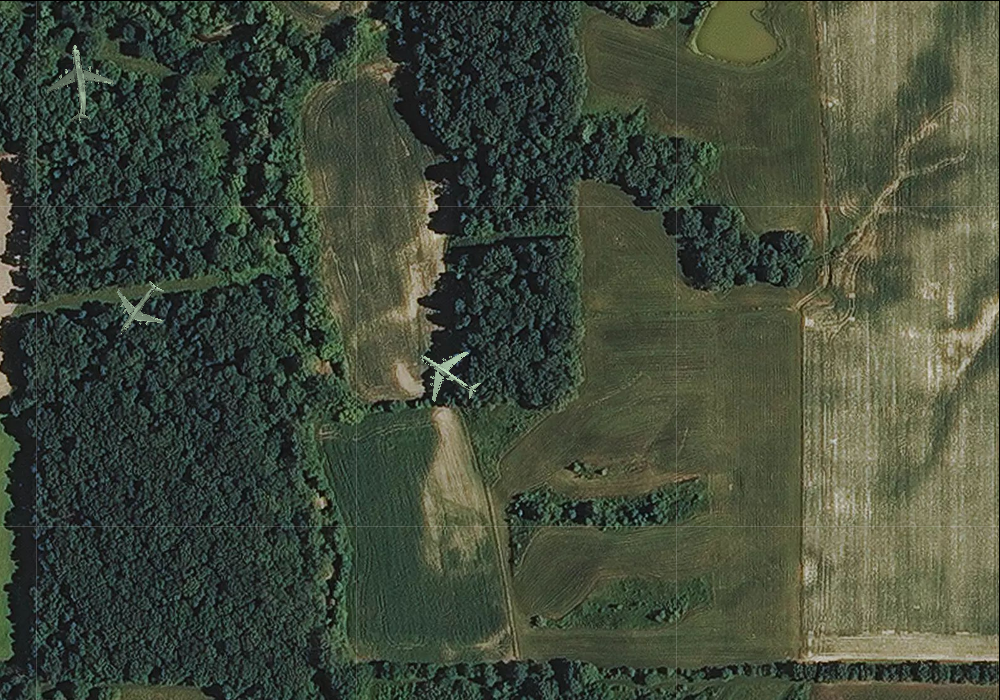plane: (402, 328, 494, 419), (35, 39, 119, 127), (97, 267, 180, 350)
